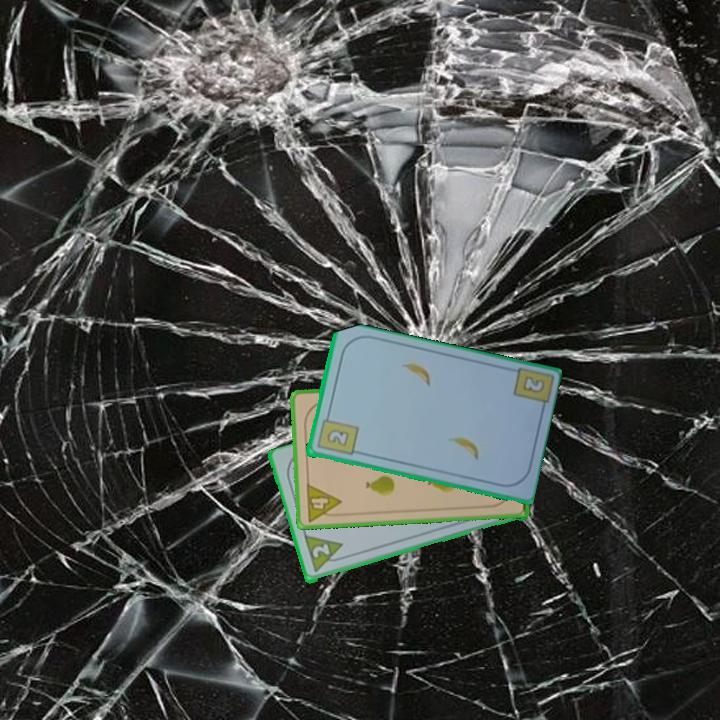2b: (313, 410, 361, 459), (518, 372, 548, 396)
2p: (301, 532, 349, 576)
4p: (302, 480, 345, 524)
